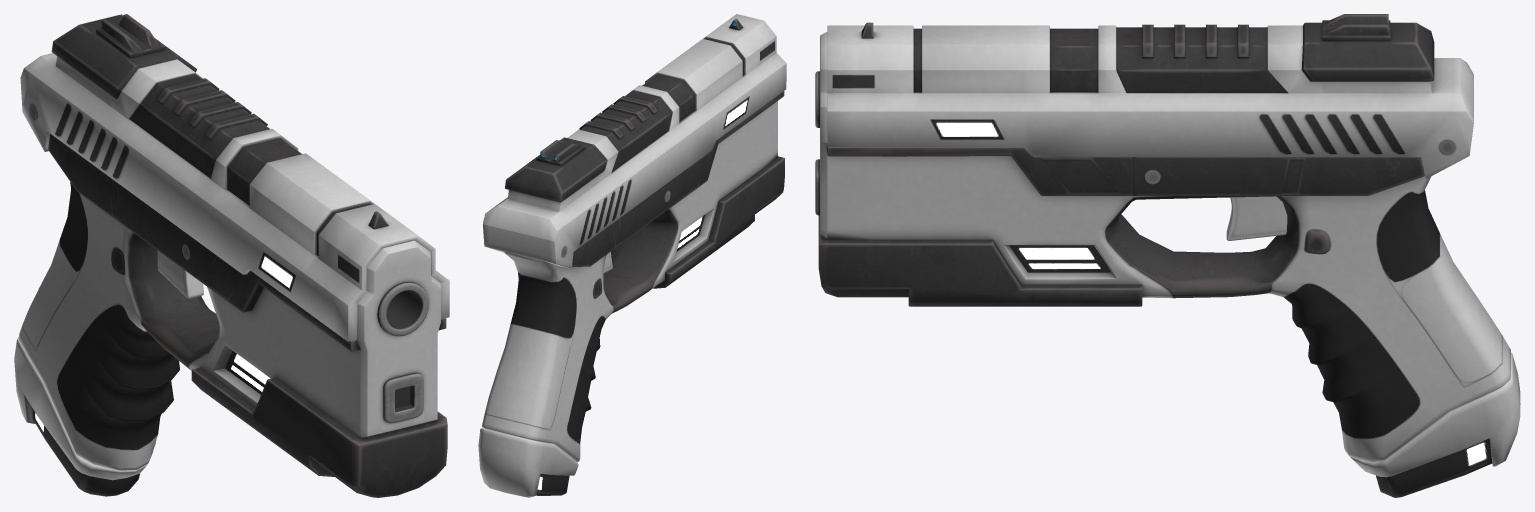
The model's file is SciFiPistol02_1.FBX.
The picture shows the model from 3 angles, left to right: view 1: azimuth 30°, elevation 25°; view 2: azimuth 150°, elevation 25°; view 3: azimuth 270°, elevation 25°; orthographic projection. The views are drawn at different scales.
Parts seen in each view (by area): view 1: SciFiPistol02_1; view 2: SciFiPistol02_1; view 3: SciFiPistol02_1.
Boxes of the visible parts, x1=… form: SciFiPistol02_1: x1=14, y1=14, x2=449, y2=497; SciFiPistol02_1: x1=478, y1=14, x2=786, y2=497; SciFiPistol02_1: x1=815, y1=14, x2=1520, y2=497.
Size of what is drawn, in the model's own units: 0.0417 by 0.1866 by 0.2535.
